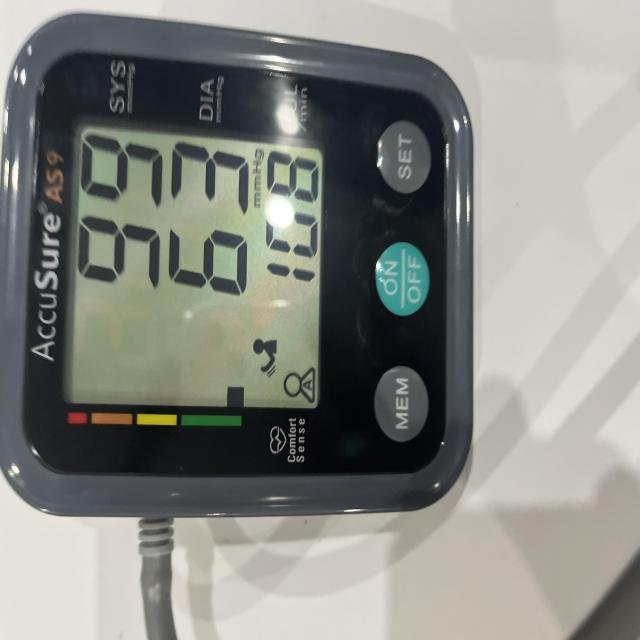bp: (0, 7, 477, 527)
